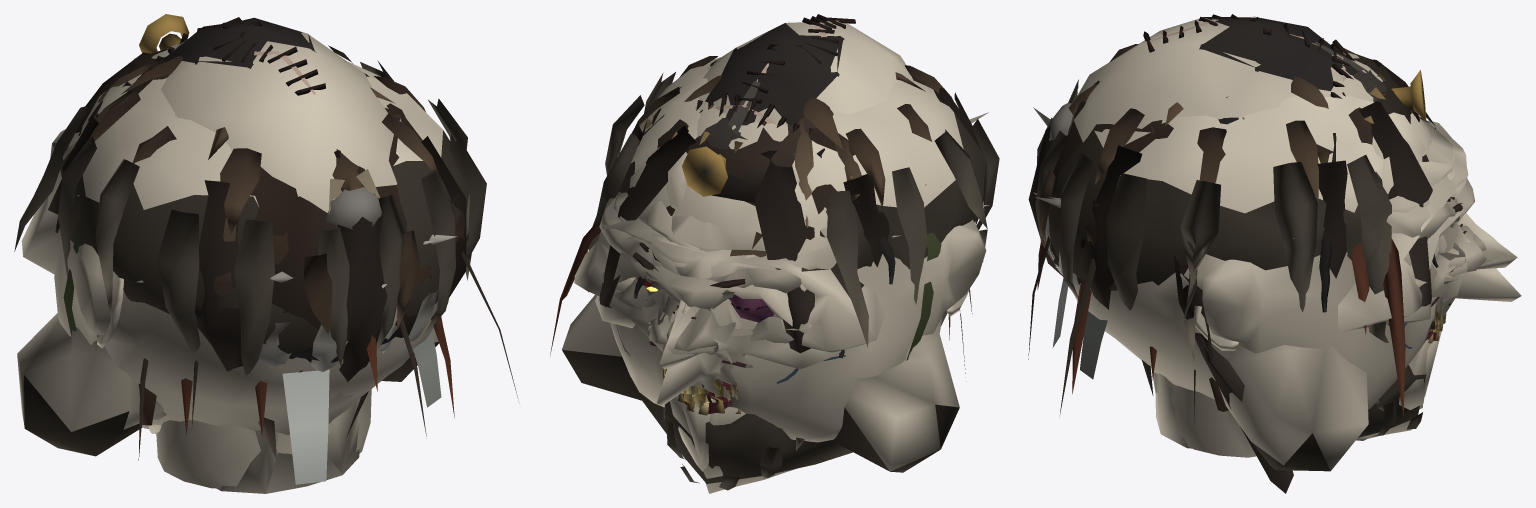
File: heads-b.glb
3 renders of one model, left to right at view 1: azimuth 30°, elevation 25°; view 2: azimuth 150°, elevation 25°; view 3: azimuth 270°, elevation 25°, orthographic. The views are drawn at different scales.
Parts seen in each view (by area): view 1: FrissonHead_Boss_Detail, FrissonHead_Boss_Skin, FrissonHead_RevenantsBSurgeon_Skin, FrissonHead_RevenantsBDrowned_Skin, FrissonHead_RodeursBDrifter_Detail, FrissonHead_RodeursBBride_Detail, FrissonHead_EnragesBHeavy_Skin, FrissonHead_RevenantsBBride_Detail, FrissonHead_RevenantsBUndertaker_Detail, FrissonHead_RodeursBOldMan_Detail, FrissonHead_RevenantsBSurgeon_Detail, FrissonHead_EnragesBSnarler_Detail (+8 smaller); view 2: FrissonHead_Boss_Skin, FrissonHead_Boss_Detail, FrissonHead_RevenantsBDrowned_Skin, FrissonHead_RodeursBElder_Skin, FrissonHead_RodeursBBride_Detail, FrissonHead_RevenantsBUndertaker_Detail, FrissonHead_EnragesBHeavy_Skin, FrissonHead_RodeursBDrifter_Detail, FrissonHead_RevenantsBSurgeon_Skin, FrissonHead_RodeursBSewn_Skin, FrissonHead_EnragesBTorn_Detail, FrissonHead_RodeursBFarmer_Skin (+11 smaller); view 3: FrissonHead_Boss_Skin, FrissonHead_Boss_Detail, FrissonHead_RevenantsBDrowned_Skin, FrissonHead_RevenantsBSurgeon_Skin, FrissonHead_RodeursBBride_Detail, FrissonHead_RodeursBDrifter_Detail, FrissonHead_RevenantsBUndertaker_Detail, FrissonHead_EnragesBHeavy_Skin, FrissonHead_RodeursBElder_Skin, FrissonHead_EnragesBSnarler_Detail, FrissonHead_EnragesBBrawler_Skin, FrissonHead_RevenantsBBride_Detail (+9 smaller).
Part boxes in pixels (left/top/right/bottom): FrissonHead_Boss_Detail: left=14, top=60, right=486, bottom=456; FrissonHead_Boss_Skin: left=17, top=62, right=443, bottom=493; FrissonHead_RevenantsBSurgeon_Skin: left=161, top=32, right=397, bottom=411; FrissonHead_RevenantsBDrowned_Skin: left=54, top=238, right=448, bottom=434; FrissonHead_RodeursBDrifter_Detail: left=78, top=45, right=464, bottom=372; FrissonHead_RodeursBBride_Detail: left=62, top=52, right=466, bottom=459; FrissonHead_EnragesBHeavy_Skin: left=62, top=142, right=371, bottom=488; FrissonHead_RevenantsBBride_Detail: left=138, top=330, right=441, bottom=484; FrissonHead_RevenantsBUndertaker_Detail: left=163, top=17, right=316, bottom=68; FrissonHead_RodeursBOldMan_Detail: left=258, top=289, right=437, bottom=371; FrissonHead_RevenantsBSurgeon_Detail: left=147, top=17, right=325, bottom=95; FrissonHead_EnragesBSnarler_Detail: left=181, top=309, right=454, bottom=436; FrissonHead_Boss_Skin: left=562, top=57, right=976, bottom=471; FrissonHead_Boss_Detail: left=562, top=72, right=999, bottom=490; FrissonHead_RevenantsBDrowned_Skin: left=610, top=219, right=986, bottom=442; FrissonHead_RodeursBElder_Skin: left=595, top=147, right=846, bottom=405; FrissonHead_RodeursBBride_Detail: left=599, top=87, right=983, bottom=415; FrissonHead_RevenantsBUndertaker_Detail: left=705, top=23, right=844, bottom=133; FrissonHead_EnragesBHeavy_Skin: left=599, top=192, right=836, bottom=367; FrissonHead_RodeursBDrifter_Detail: left=627, top=56, right=953, bottom=399; FrissonHead_RevenantsBSurgeon_Skin: left=703, top=21, right=913, bottom=124; FrissonHead_RodeursBSewn_Skin: left=601, top=201, right=811, bottom=493; FrissonHead_EnragesBTorn_Detail: left=652, top=110, right=833, bottom=286; FrissonHead_RodeursBFarmer_Skin: left=627, top=236, right=806, bottom=471; FrissonHead_Boss_Skin: left=1094, top=95, right=1506, bottom=470; FrissonHead_Boss_Detail: left=1035, top=79, right=1445, bottom=471; FrissonHead_RevenantsBDrowned_Skin: left=1074, top=252, right=1436, bottom=409; FrissonHead_RevenantsBSurgeon_Skin: left=1071, top=16, right=1349, bottom=142; FrissonHead_RodeursBBride_Detail: left=1028, top=59, right=1439, bottom=493; FrissonHead_RodeursBDrifter_Detail: left=1039, top=44, right=1444, bottom=328; FrissonHead_RevenantsBUndertaker_Detail: left=1199, top=17, right=1368, bottom=91; FrissonHead_EnragesBHeavy_Skin: left=1151, top=196, right=1486, bottom=457; FrissonHead_RodeursBElder_Skin: left=1155, top=111, right=1521, bottom=432; FrissonHead_EnragesBSnarler_Detail: left=1037, top=94, right=1405, bottom=417; FrissonHead_EnragesBBrawler_Skin: left=1319, top=52, right=1486, bottom=284; FrissonHead_RevenantsBBride_Detail: left=1052, top=278, right=1228, bottom=411.
Size of the model in its own units: 0.4802 by 0.4925 by 0.5416.
